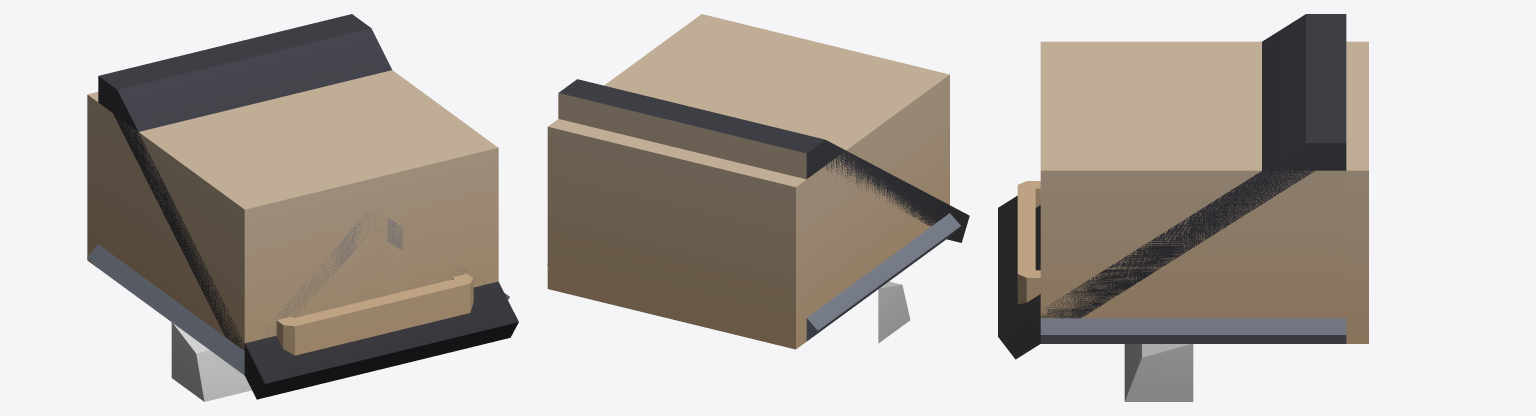
File: details.glb
3 views of the same model, side by side, from view 1: azimuth 30°, elevation 25°; view 2: azimuth 150°, elevation 25°; view 3: azimuth 270°, elevation 25° (orthographic). The views are drawn at different scales.
Parts seen in each view (by area): view 1: wall-block, dormer, wall-balcony, wall-window, wall-windows, roof-gable, wall-door, awning-a, roof-gable-end; view 2: wall-balcony, wall-block, dormer, roof-gable, awning-a, roof-gable-end; view 3: wall-block, dormer, wall-balcony, roof-gable, awning-a, roof-gable-end.
Part boxes in pixels (x1,y1,x2,y2): wall-block: (99, 70, 498, 350); dormer: (98, 14, 518, 399); wall-balcony: (87, 78, 473, 355); wall-window: (244, 148, 498, 342); wall-windows: (244, 148, 498, 342); roof-gable: (87, 209, 509, 375); wall-door: (245, 149, 498, 341); awning-a: (171, 322, 251, 401); roof-gable-end: (87, 246, 509, 374); wall-balcony: (547, 22, 938, 349); wall-block: (604, 14, 949, 227); dormer: (558, 79, 969, 313); roof-gable: (547, 213, 960, 341); awning-a: (878, 281, 910, 343); roof-gable-end: (807, 225, 943, 328); wall-block: (1040, 41, 1346, 318); dormer: (998, 14, 1346, 359); wall-balcony: (1017, 41, 1368, 343); roof-gable: (1040, 318, 1346, 343); awning-a: (1124, 344, 1193, 401); roof-gable-end: (1043, 318, 1346, 334).
Size of the model in its own units: 4.58 by 3.93 by 7.2.
